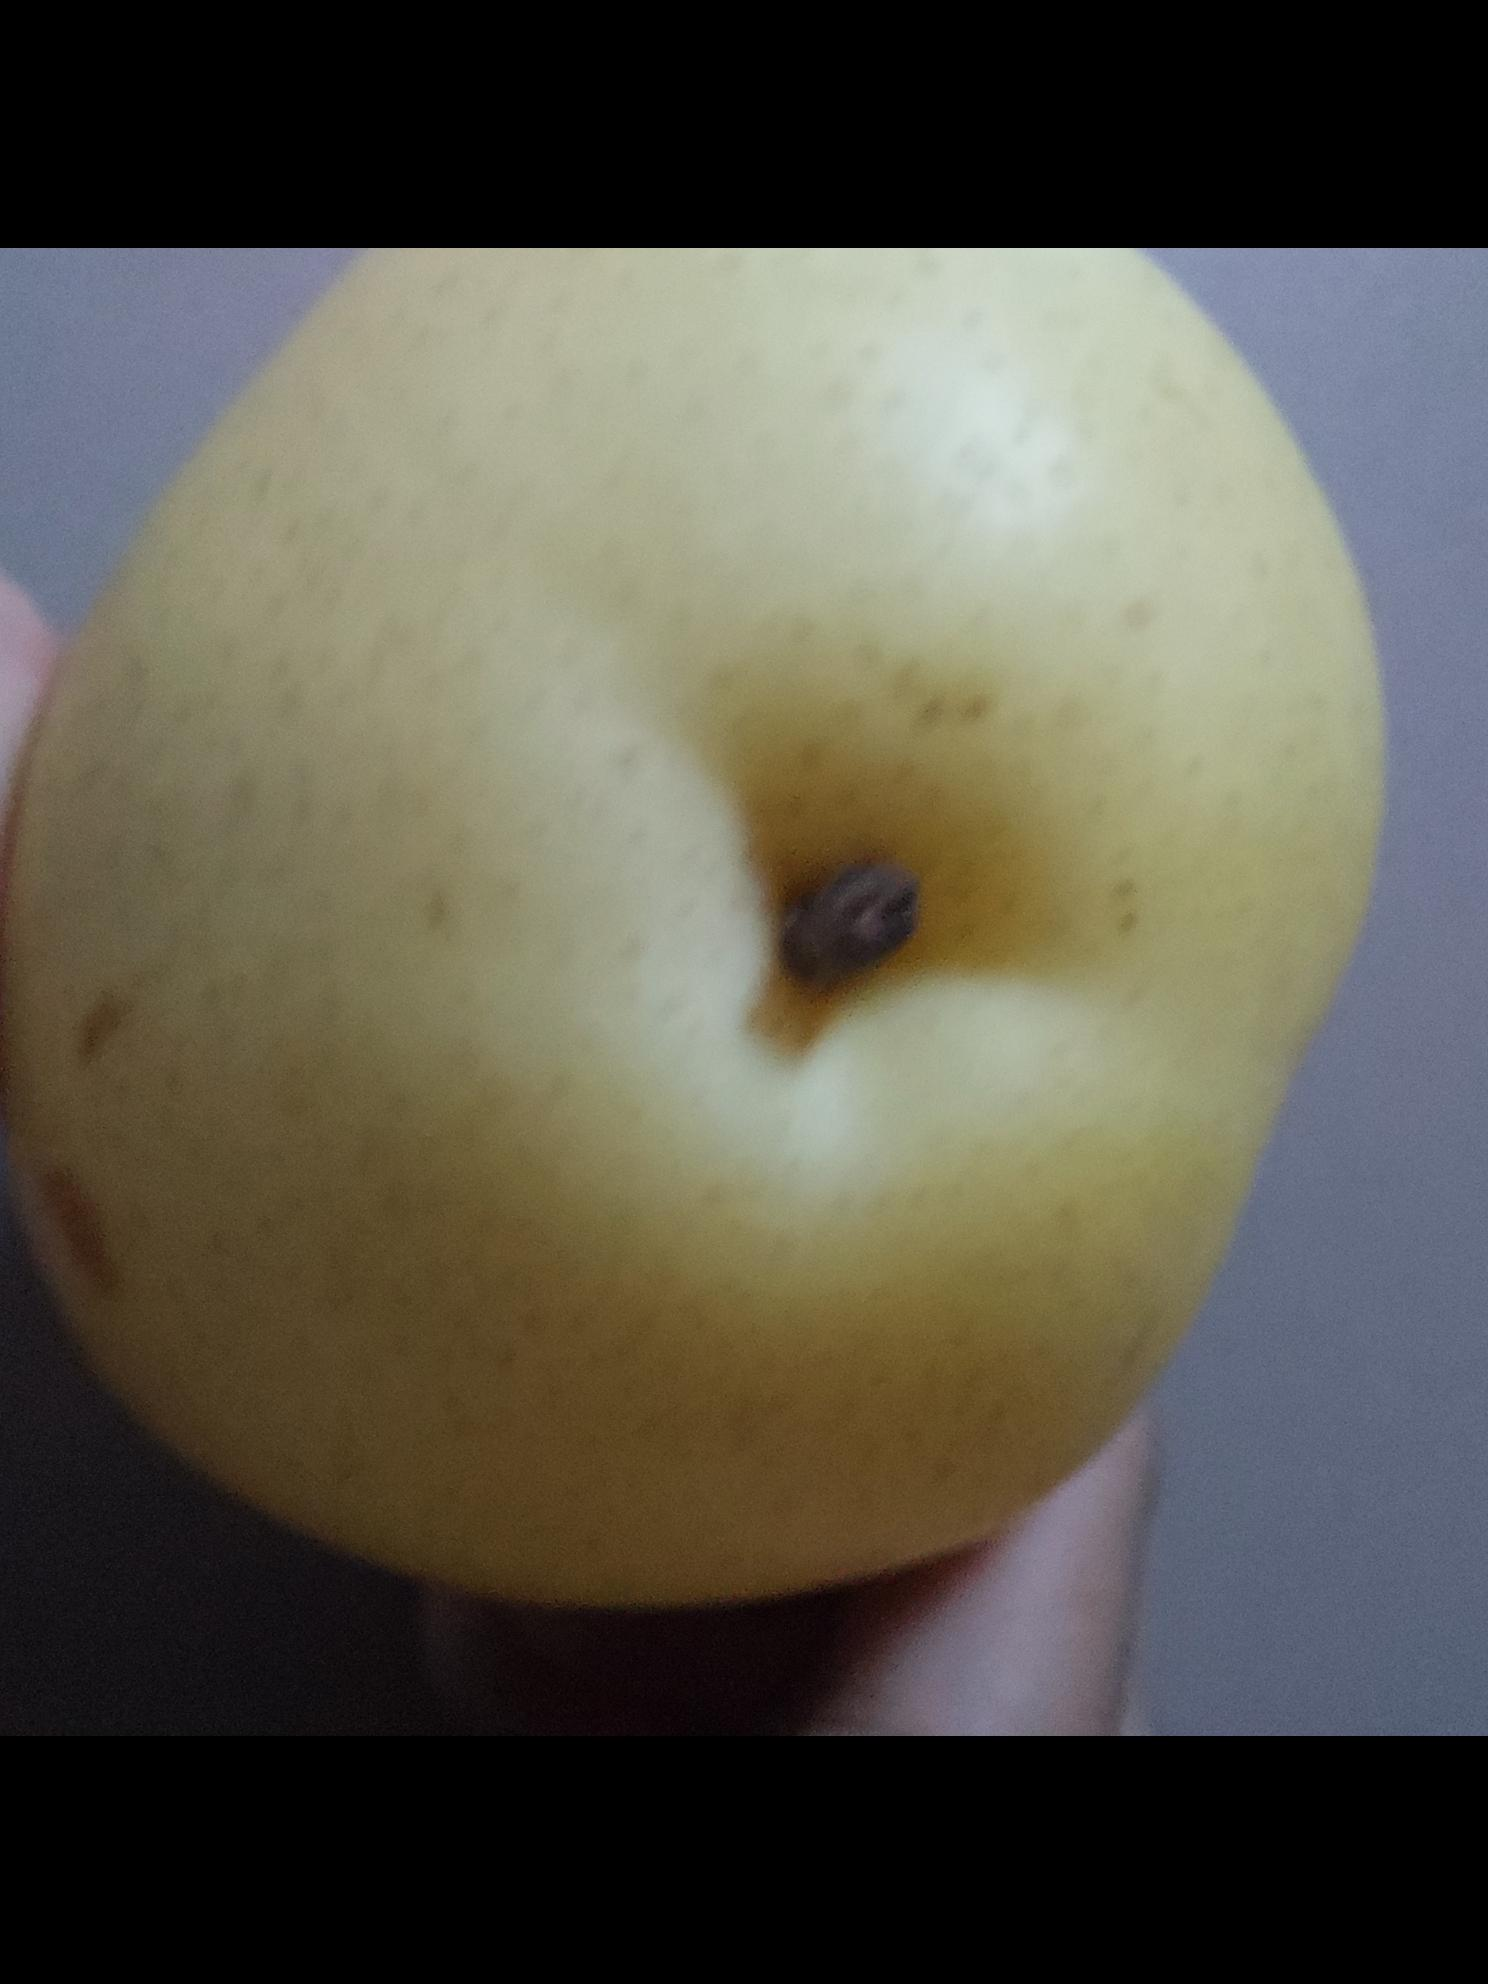Good Pear: (1, 248, 1376, 1600)
